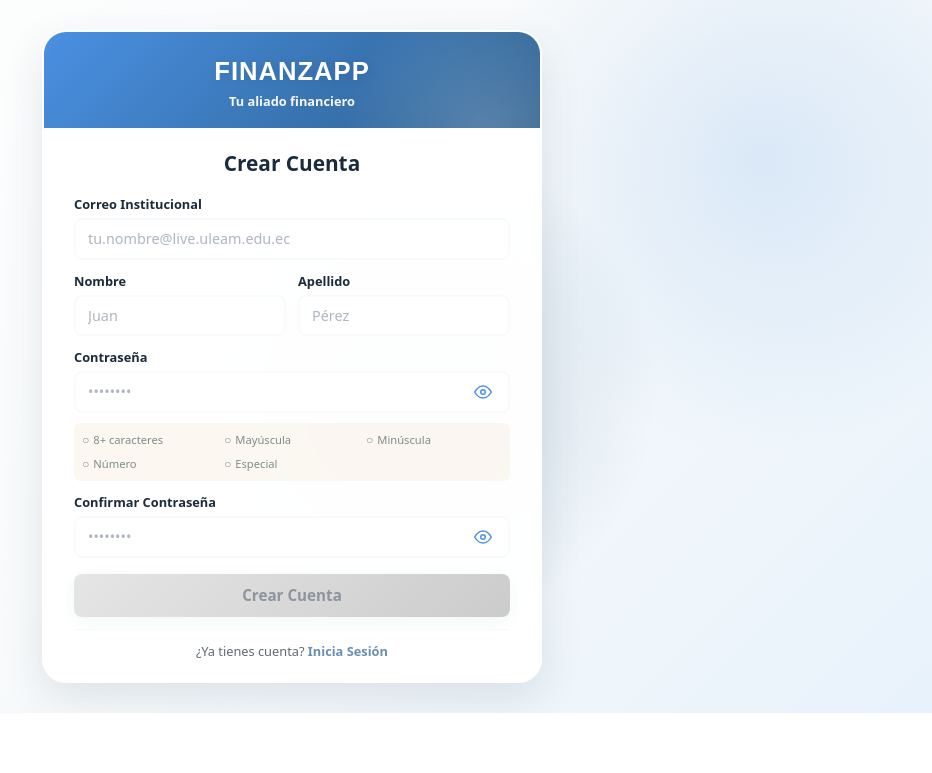
Register.vue › Habilita el botón de registro cuando el formulario es válido
In the field labelled "Correo Institucional": (292, 239) [74,218,510,260], type "test@live.uleam.edu.ec"
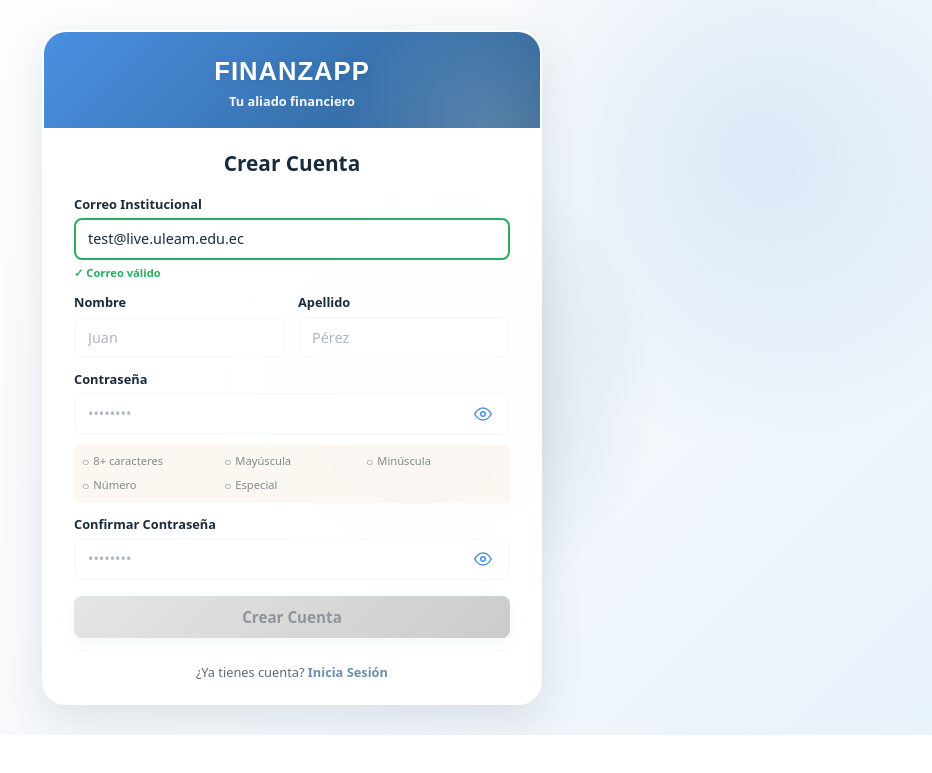
In the field with id "firstName": (180, 337) [74,316,286,358], type "David"
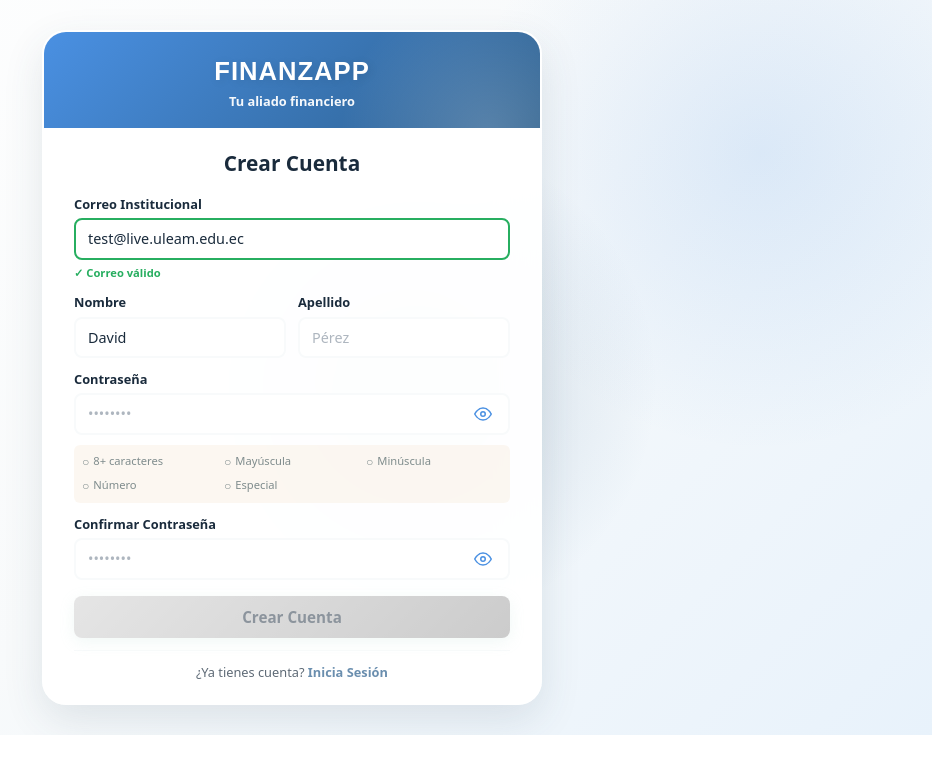
In the field with id "lastName": (404, 337) [298,316,510,358], type "Javier"
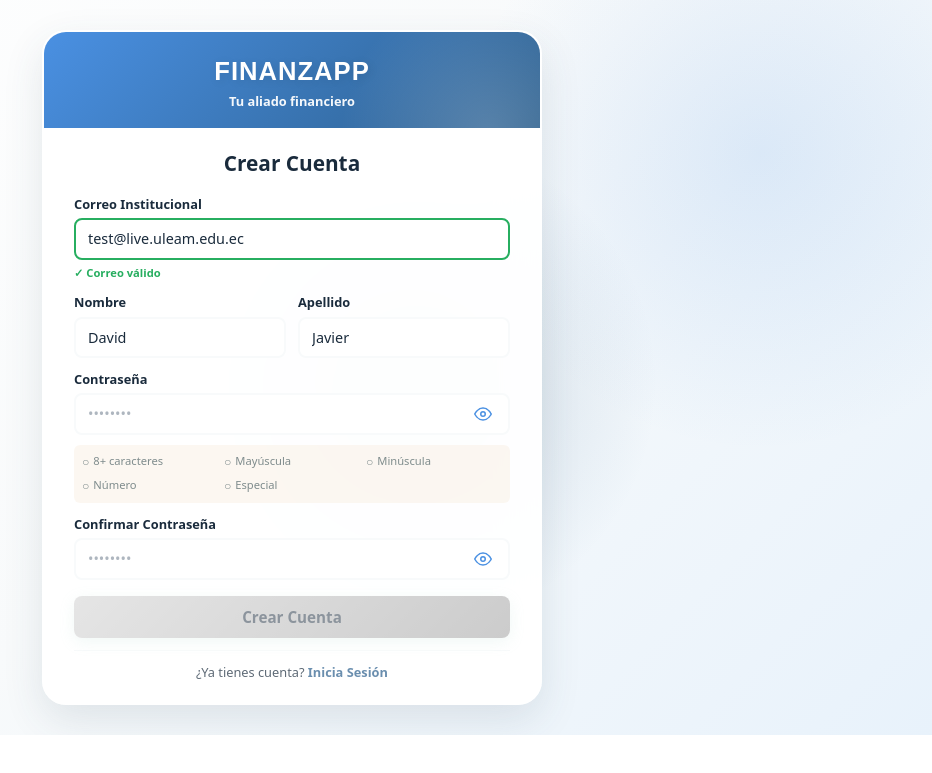
In the password field labelled "Contraseña": (292, 414) [74,393,510,435], type "David123#"
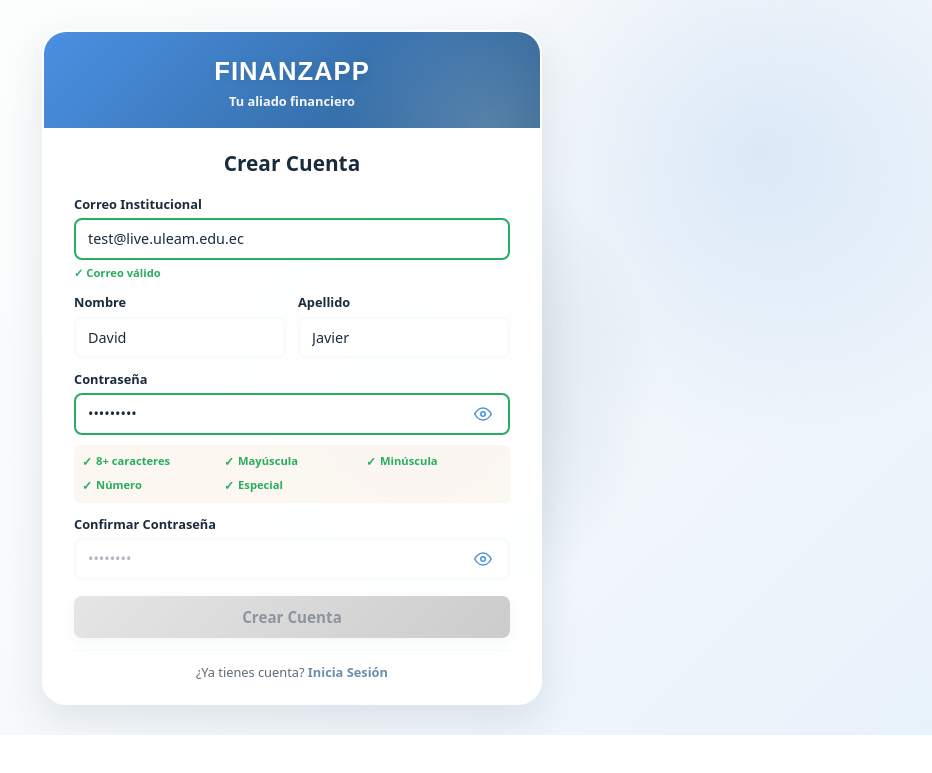
In the password field with id "confirmPassword": (292, 559) [74,538,510,580], type "David123#"
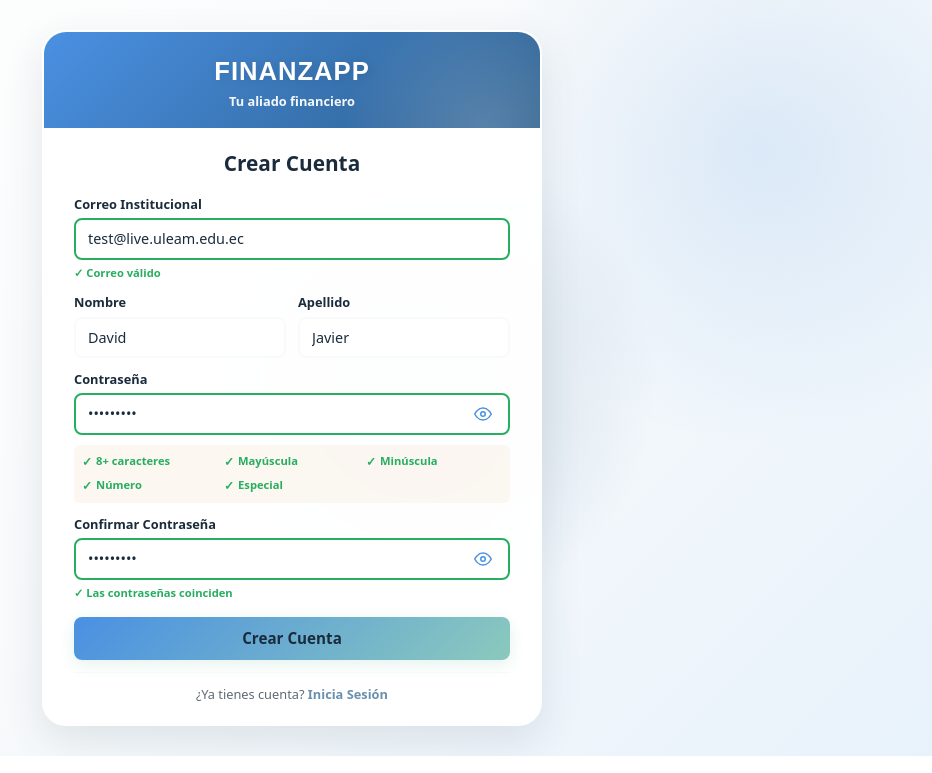
expect the submit button is enabled: met, box [74,617,510,660]
